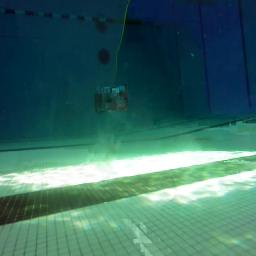front: (93, 84, 129, 114)
